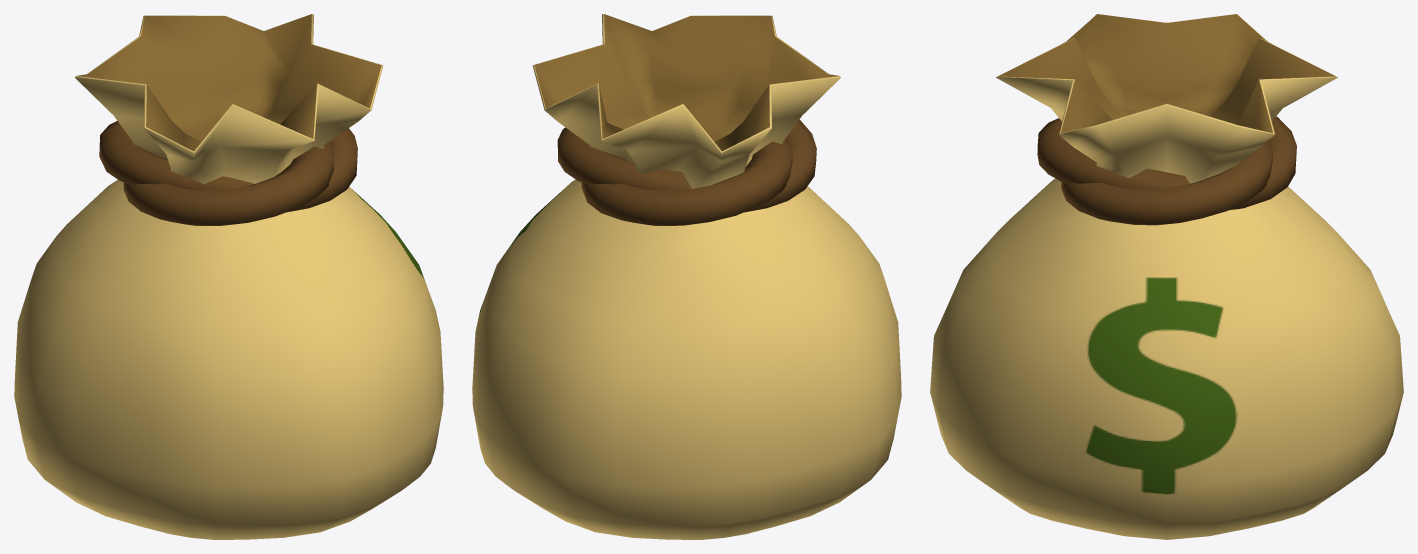
Rendered from para_cuvali.fbx.
The picture shows the model from 3 angles, left to right: view 1: azimuth 30°, elevation 25°; view 2: azimuth 150°, elevation 25°; view 3: azimuth 270°, elevation 25°; orthographic projection.
Visible parts, largest first — view 1: para_cuvali, ip; view 2: para_cuvali, ip; view 3: para_cuvali, ip.
Boxes of the visible parts, x1,y1,x2,y2 form: para_cuvali: [14, 14, 443, 539]; ip: [99, 121, 357, 225]; para_cuvali: [472, 14, 901, 539]; ip: [557, 119, 816, 225]; para_cuvali: [930, 14, 1403, 539]; ip: [1037, 116, 1296, 225].
Bounding box in the file's own units: 0.9397 × 0.9711 × 0.992.
2 materials, 1 textured.
